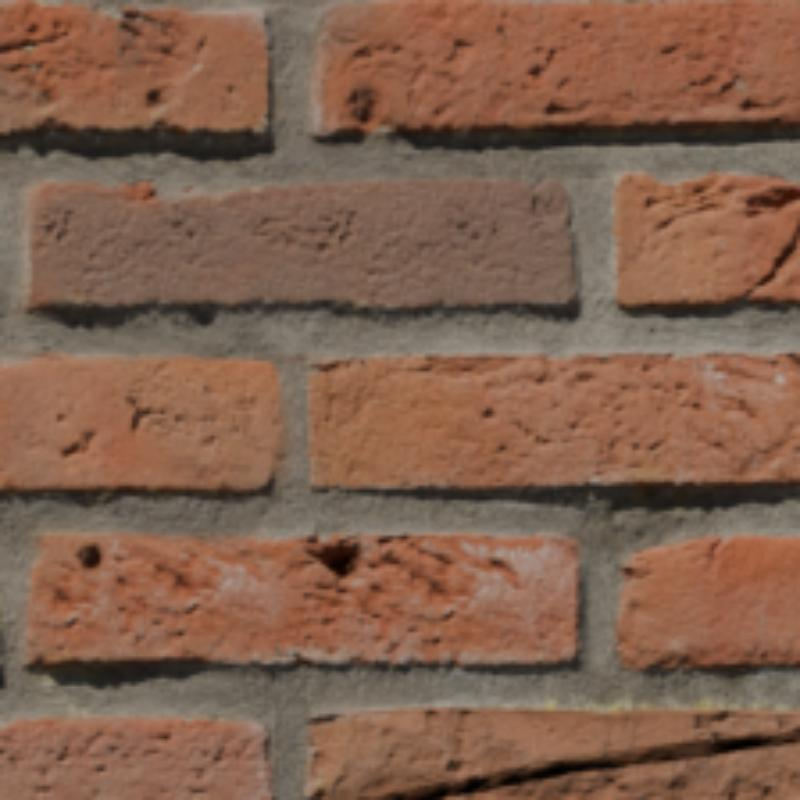crack: (382, 729, 796, 796), (743, 229, 796, 296)
